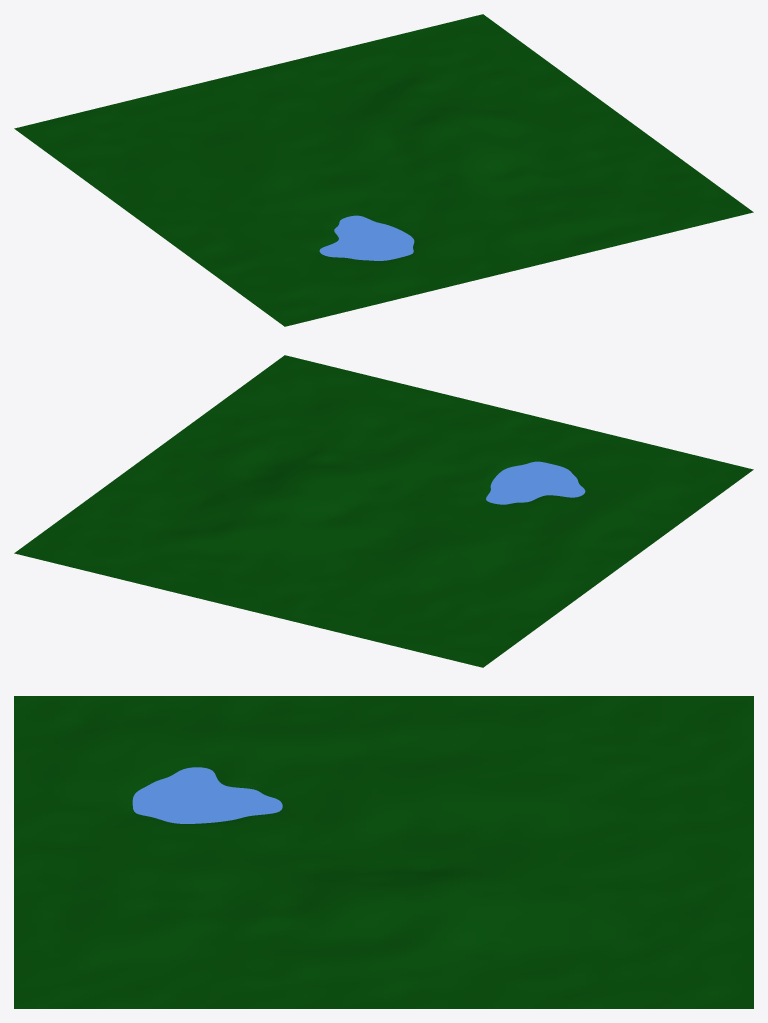
File: NewGround.fbx
The picture shows the model from 3 angles, top to bottom: view 1: azimuth 30°, elevation 25°; view 2: azimuth 150°, elevation 25°; view 3: azimuth 270°, elevation 25°; orthographic projection. The views are drawn at different scales.
Parts seen in each view (by area): view 1: Plane.763, Plane.001; view 2: Plane.763, Plane.001; view 3: Plane.763, Plane.001.
Part boxes in pixels (bbox=[...]): Plane.763: bbox=[14, 14, 753, 326]; Plane.001: bbox=[319, 215, 414, 260]; Plane.763: bbox=[14, 355, 753, 667]; Plane.001: bbox=[486, 461, 585, 504]; Plane.763: bbox=[14, 696, 753, 1008]; Plane.001: bbox=[132, 767, 282, 823].
Bounding box in the file's own units: 25600 × 832 × 25600.
